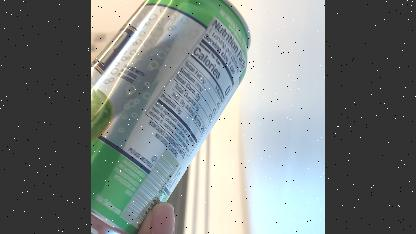Can: (91, 0, 251, 234)
